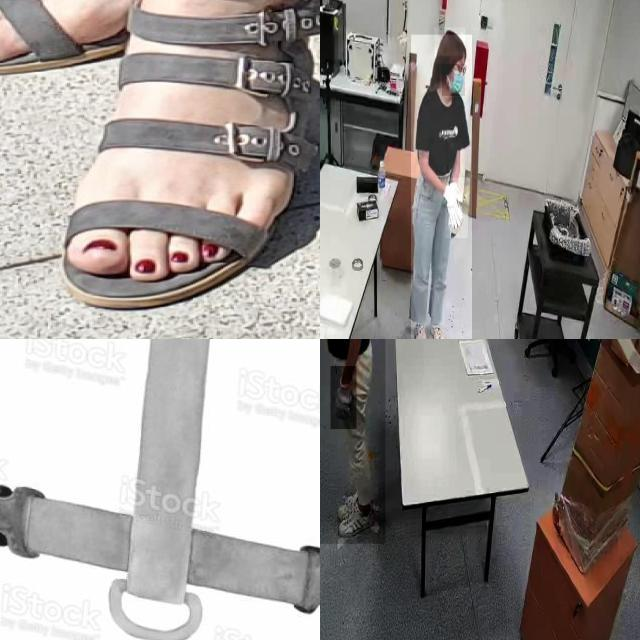Harness: (0, 339, 320, 640)
Sandals: (55, 0, 317, 308)
face_mask: (442, 64, 465, 96)
hand_glove: (331, 366, 357, 430), (445, 178, 469, 239)
head_nohelmet: (434, 27, 466, 57)
person: (411, 34, 472, 339), (320, 339, 386, 544)
shoes: (337, 503, 375, 541), (428, 315, 446, 339), (409, 319, 428, 339)
